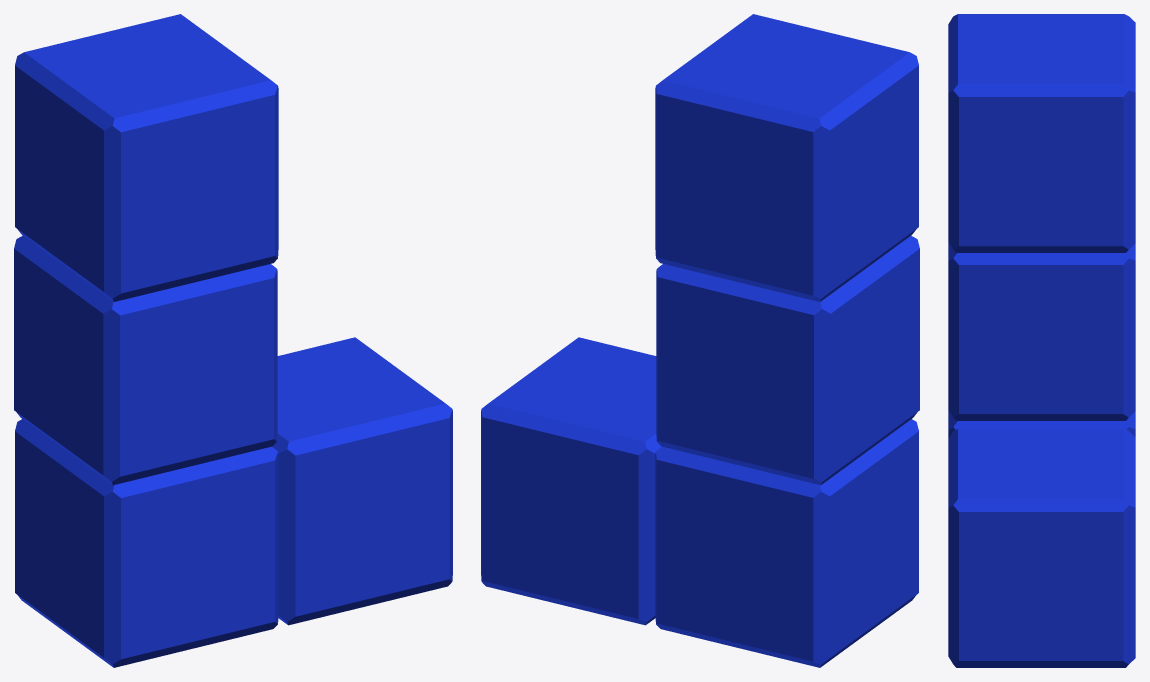
File: pieza7.fbx
3 views of the same model, side by side, from view 1: azimuth 30°, elevation 25°; view 2: azimuth 150°, elevation 25°; view 3: azimuth 270°, elevation 25° (orthographic). The views are drawn at different scales.
Parts seen in each view (by area): view 1: Cube.002, Cube.003, Cube, Cube.001; view 2: Cube.002, Cube.003, Cube, Cube.001; view 3: Cube.002, Cube.001, Cube.003, Cube.
Boxes of the visible parts, x1,y1,x2,y2 form: Cube.002: (15,14,278,301); Cube.003: (14,235,277,485); Cube: (15,419,278,667); Cube.001: (272,337,452,625); Cube.002: (655,14,918,301); Cube.003: (656,235,919,485); Cube: (655,419,918,667); Cube.001: (481,337,661,625); Cube.002: (948,14,1135,252); Cube.001: (948,429,1135,667); Cube.003: (948,242,1135,420); Cube: (948,410,1135,438).
Size of the model in its own units: 423 by 634 by 213.
